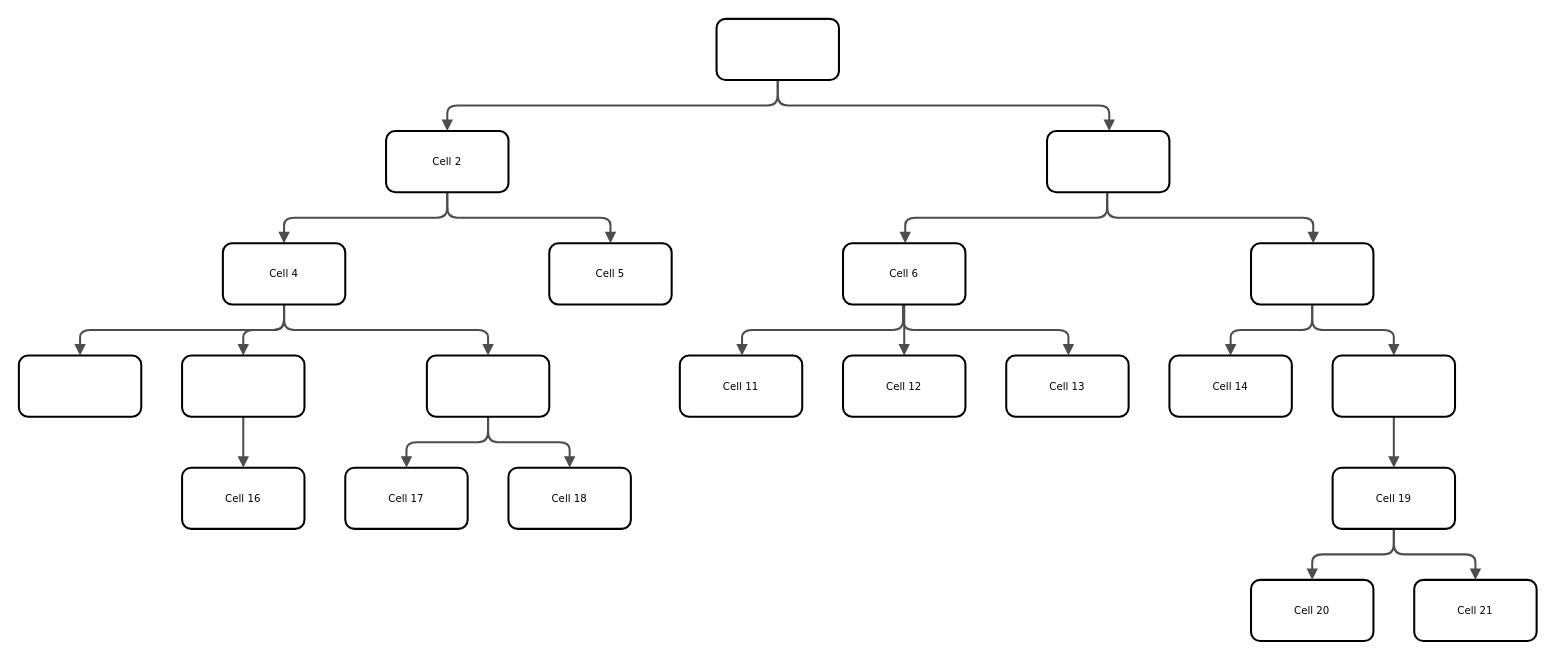
Image size: 1554x659. Some labels were removed from this diagram. Here are the shapes that lost their labels. From the top down, the box of each, then its label:
(715, 17, 839, 81): Cell 1
(1046, 130, 1170, 193): Cell 3
(1250, 242, 1374, 305): Cell 7
(17, 354, 142, 417): Cell 8
(181, 354, 305, 417): Cell 9
(425, 354, 550, 417): Cell 10
(1331, 354, 1456, 417): Cell 15
